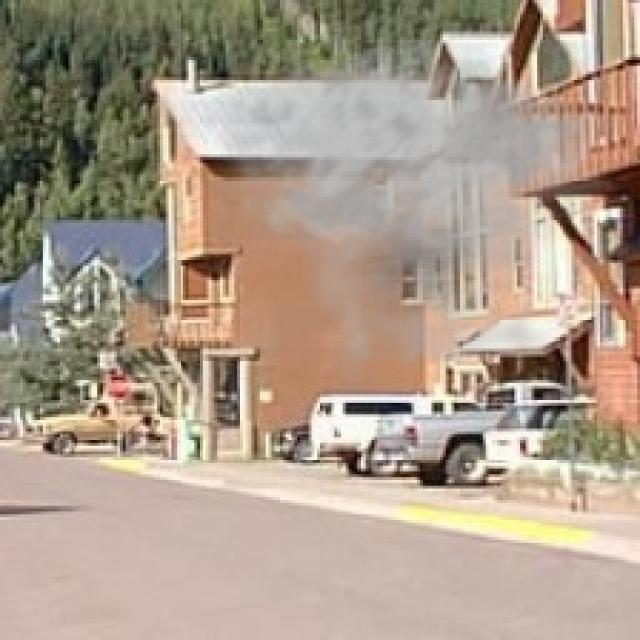Smoke: (206, 37, 632, 397)
